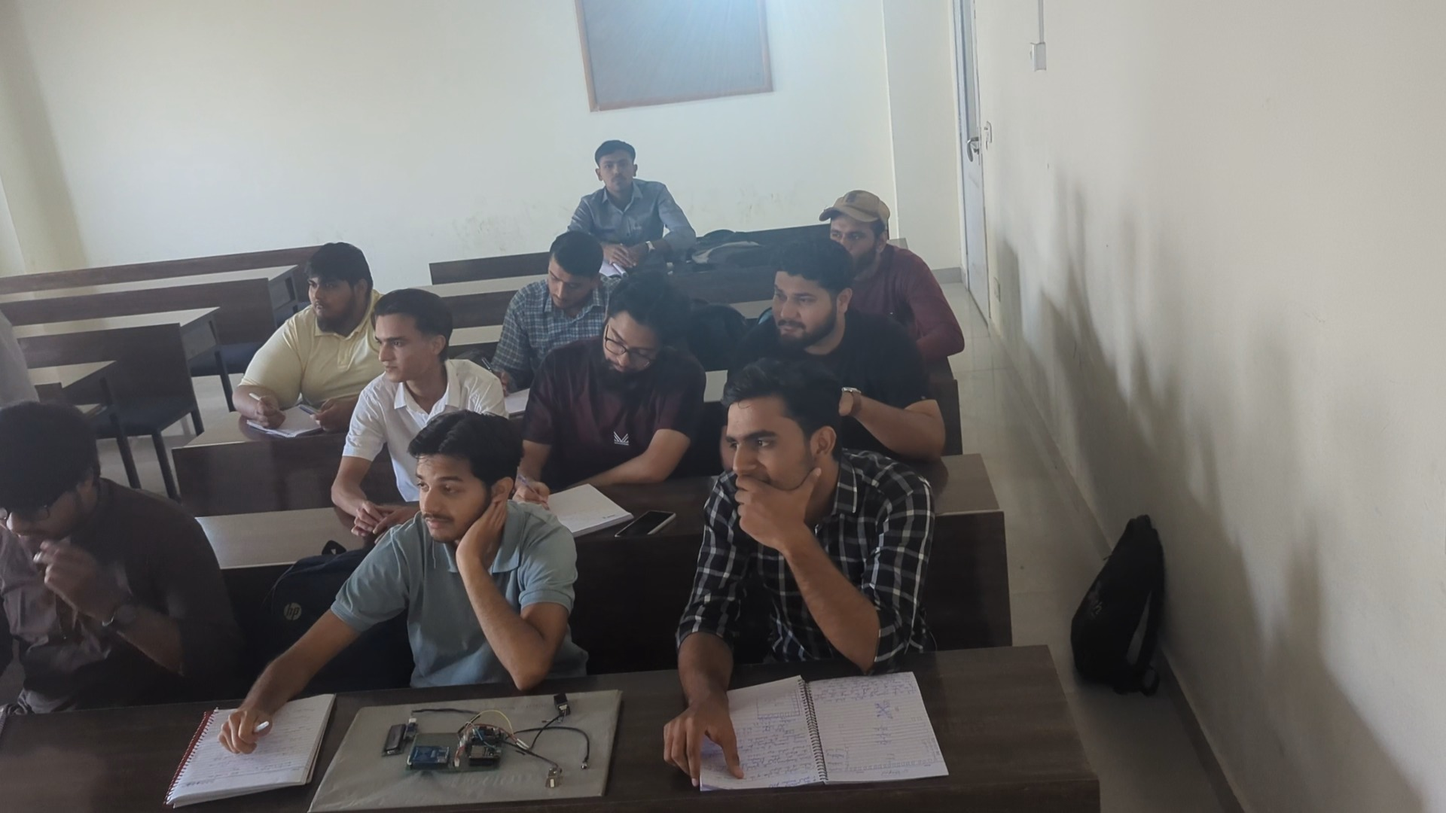look_forward: (705, 347, 896, 639), (368, 421, 555, 625), (573, 132, 679, 277), (741, 244, 867, 343), (373, 294, 466, 412), (277, 244, 370, 359), (819, 198, 910, 273)
using_device: (2, 370, 215, 690)
write: (522, 300, 655, 527), (488, 232, 582, 411)
